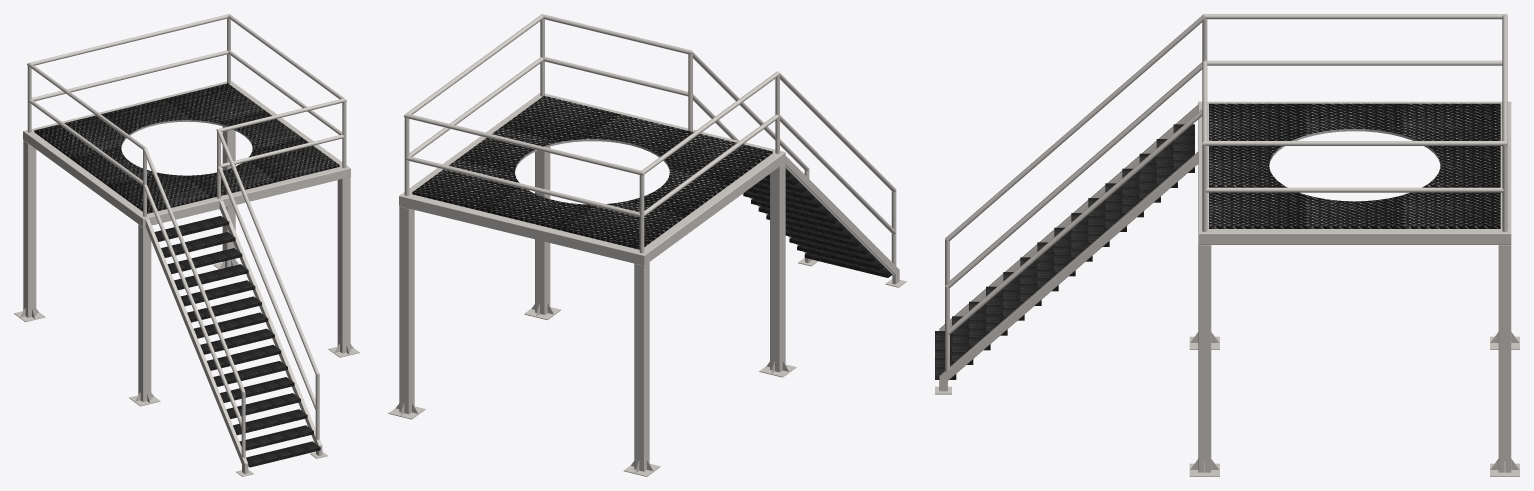
Rendered from P3_Portafolio.glb.
The picture shows the model from 3 angles, left to right: view 1: azimuth 30°, elevation 25°; view 2: azimuth 150°, elevation 25°; view 3: azimuth 270°, elevation 25°; orthographic projection. The views are drawn at different scales.
Visible parts, largest first — view 1: Pieza1-1, Piso1-1, Escalon1-3, Escalon1-4, Escalon1-5, Escalon1-15, Escalon1-13, Escalon1-11, Escalon1-7, Escalon1-14, Escalon1-16, Escalon1-9 (+5 smaller); view 2: Pieza1-1, Piso1-1, Escalon1-3, Escalon1-5, Escalon1-4, Escalon1-6; view 3: Pieza1-1, Piso1-1, Escalon1-17, Escalon1-14, Escalon1-6, Escalon1-15, Escalon1-9, Escalon1-10, Escalon1-16, Escalon1-12, Escalon1-13, Escalon1-8 (+4 smaller).
Part boxes in pixels (box(x1,y1,x2,y2)): Pieza1-1: box(14, 14, 359, 476); Piso1-1: box(34, 83, 339, 213); Escalon1-3: box(246, 441, 320, 467); Escalon1-4: box(239, 425, 313, 450); Escalon1-5: box(233, 409, 307, 435); Escalon1-15: box(167, 248, 242, 273); Escalon1-13: box(180, 280, 255, 306); Escalon1-11: box(194, 312, 268, 338); Escalon1-7: box(220, 377, 294, 402); Escalon1-14: box(174, 264, 248, 290); Escalon1-16: box(161, 232, 235, 257); Escalon1-9: box(207, 345, 281, 370); Pieza1-1: box(388, 14, 906, 476); Piso1-1: box(412, 95, 772, 249); Escalon1-3: box(804, 252, 892, 277); Escalon1-5: box(789, 237, 876, 262); Escalon1-4: box(797, 245, 884, 270); Escalon1-6: box(785, 230, 869, 254); Pieza1-1: box(935, 14, 1519, 476); Piso1-1: box(1209, 103, 1500, 228); Escalon1-17: box(1173, 124, 1194, 172); Escalon1-14: box(1122, 168, 1143, 217); Escalon1-6: box(986, 286, 1007, 335); Escalon1-15: box(1139, 153, 1160, 202); Escalon1-9: box(1037, 242, 1058, 291); Escalon1-10: box(1054, 227, 1075, 276); Escalon1-16: box(1156, 139, 1177, 187); Escalon1-12: box(1088, 198, 1109, 246); Escalon1-13: box(1105, 183, 1126, 231); Escalon1-8: box(1020, 257, 1041, 305).
Bounding box in the file's own units: 3.85 × 4.24 × 6.82.
Materials: 4 (2 with a texture image).
